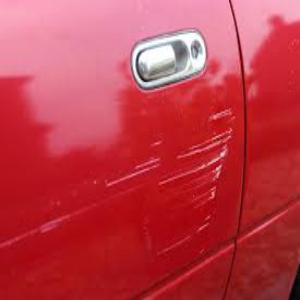door_scratch: (9, 100, 269, 266)
